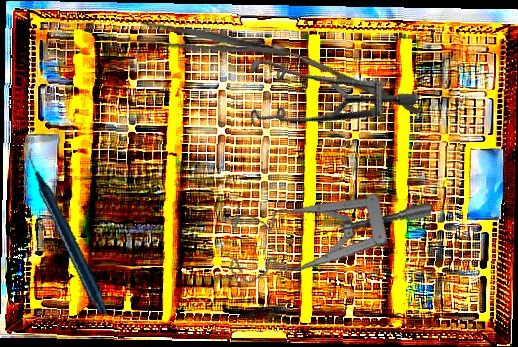Dressing Forceps: (125, 18, 291, 65)
Handpiece: (0, 147, 137, 315)
Pusher: (283, 49, 422, 115)
Speculum: (223, 5, 420, 195), (221, 166, 434, 315)
